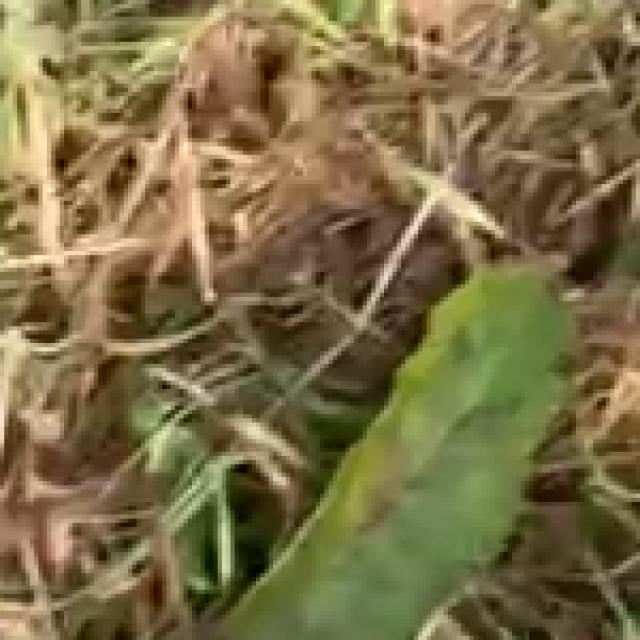organic waste: (153, 171, 640, 640)
